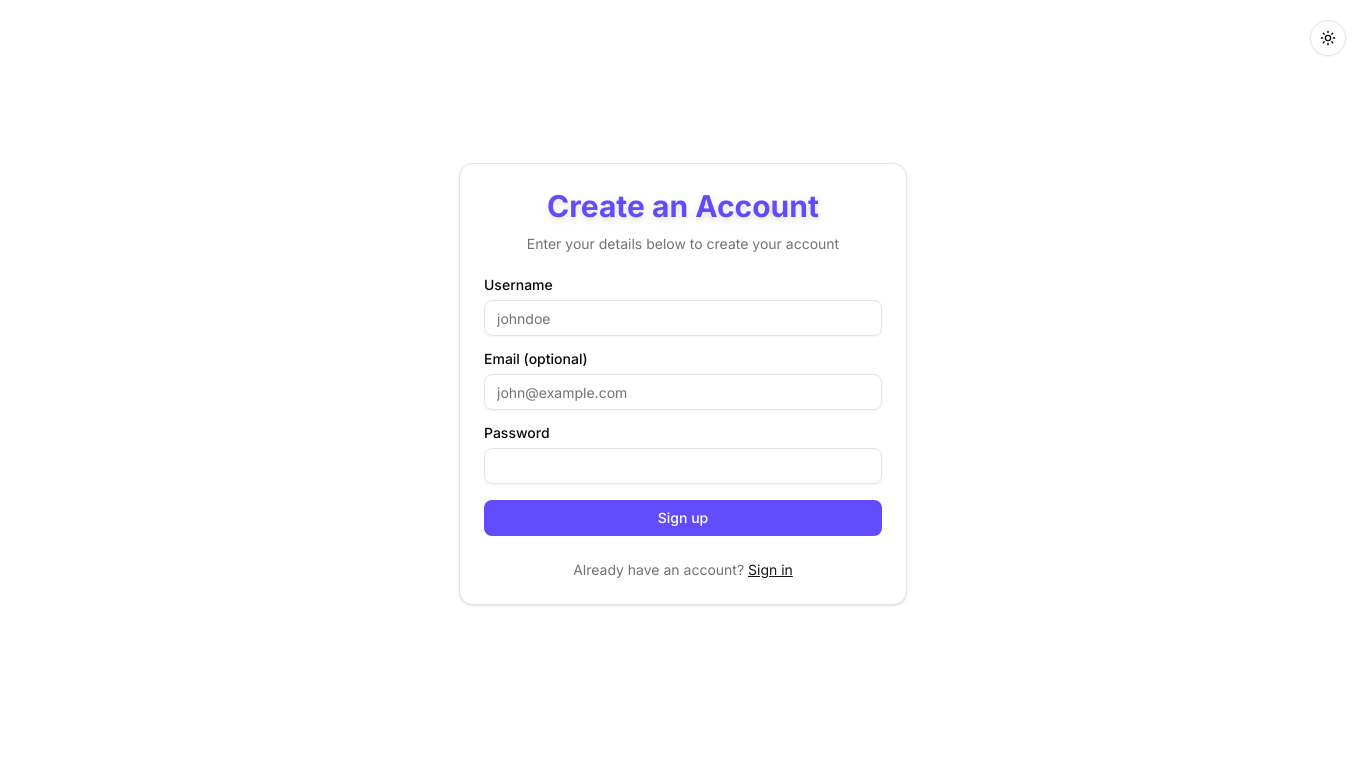
Test: SignUpPage › shows email exists error when API returns email already exists error
Type "testuser" into the field labelled "Username" at (683, 318), box [484,300,882,336]
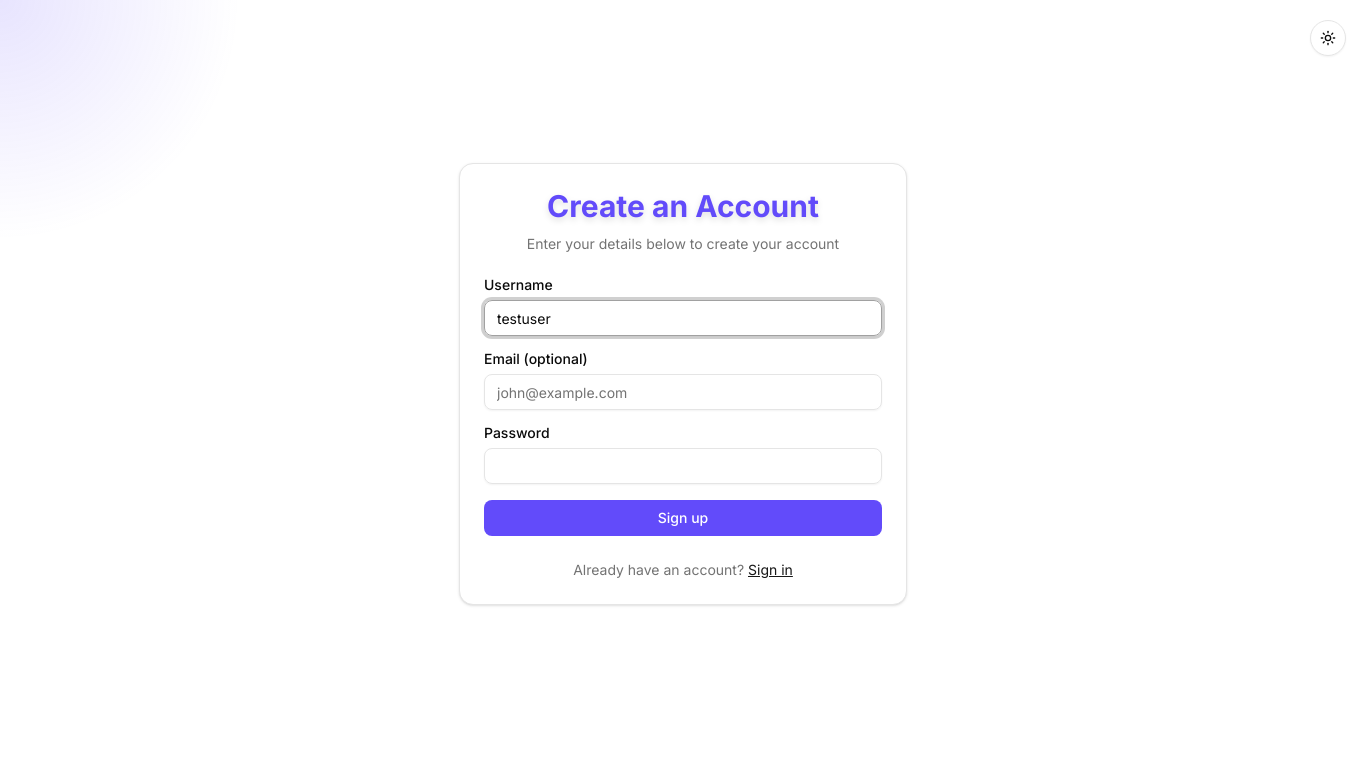
Type "test@example.com" into the field labelled "Email (optional)" at (683, 392), box [484,374,882,410]
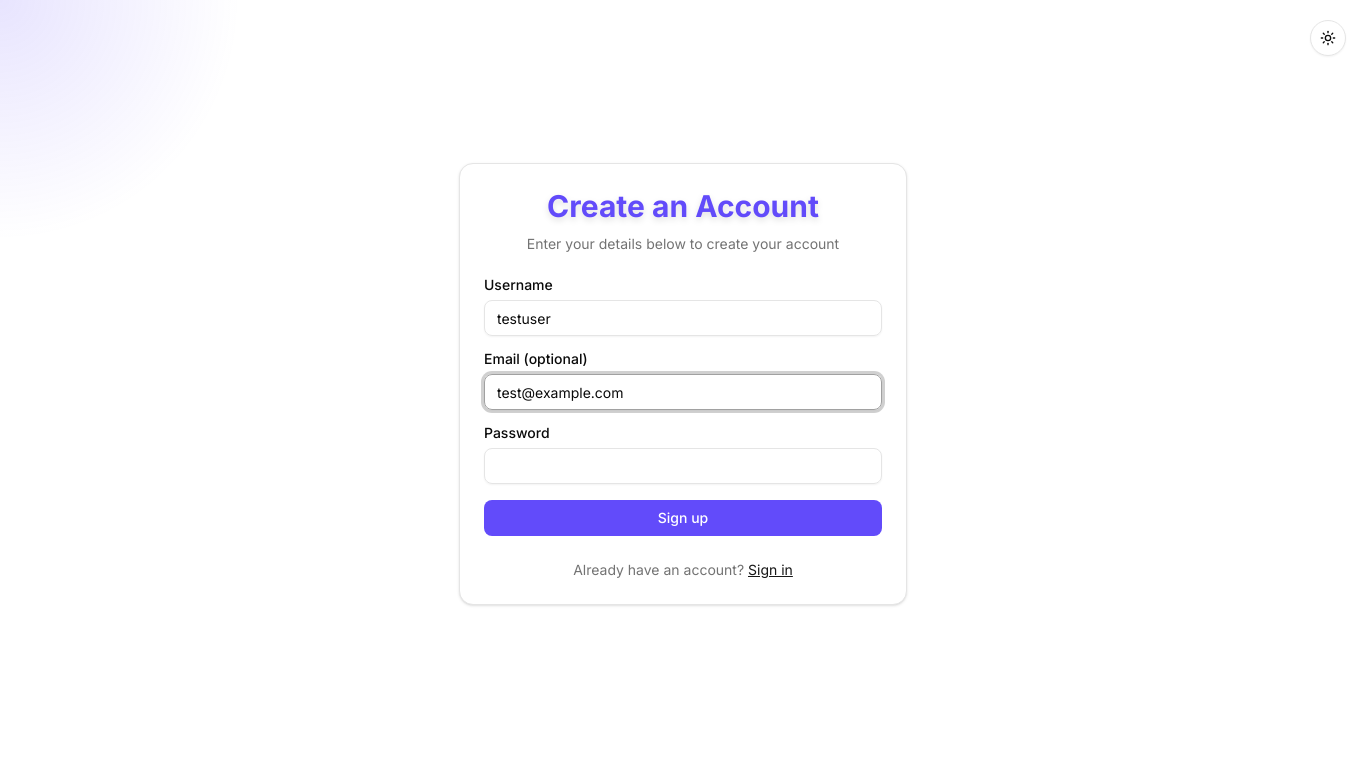
Type "password123" into the password field labelled "Password" at (683, 466), box [484,448,882,484]
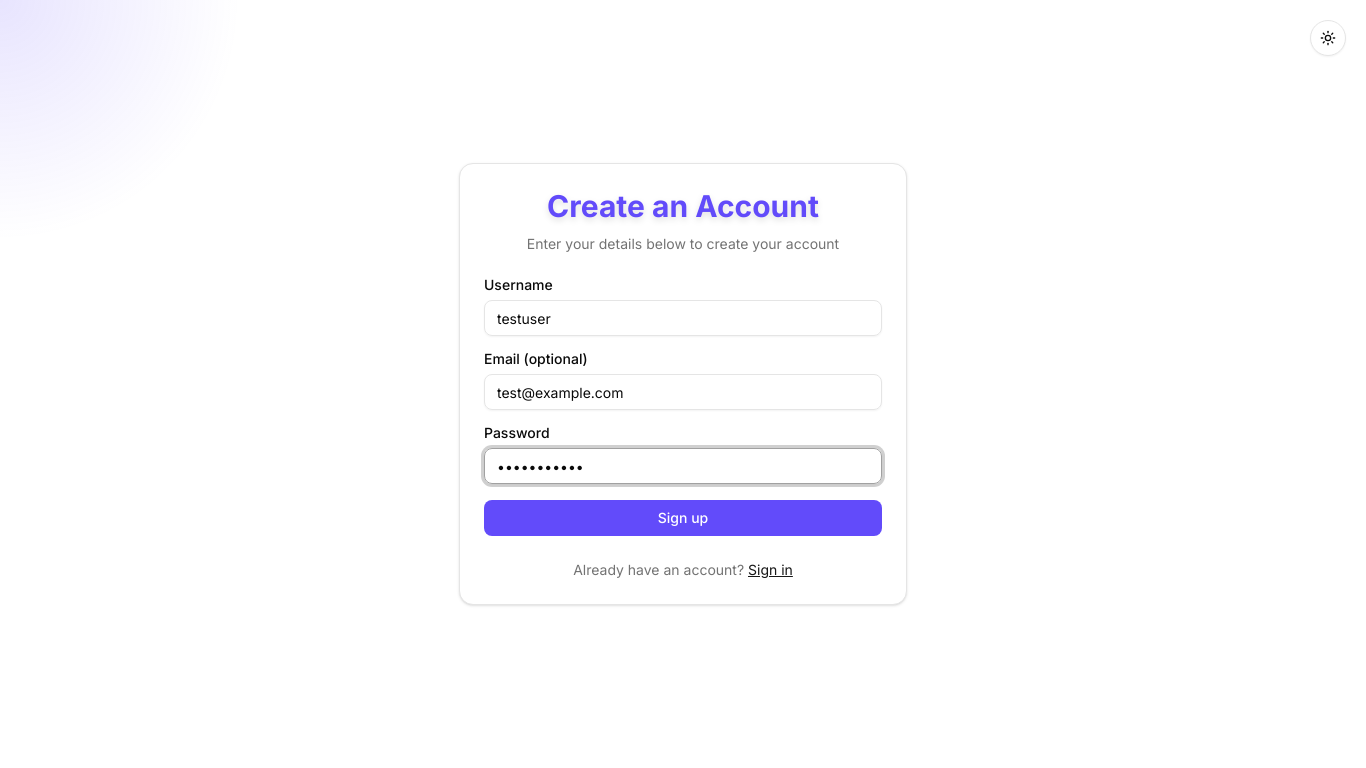
Click the button "Sign up" at (683, 518), box [484,500,882,536]
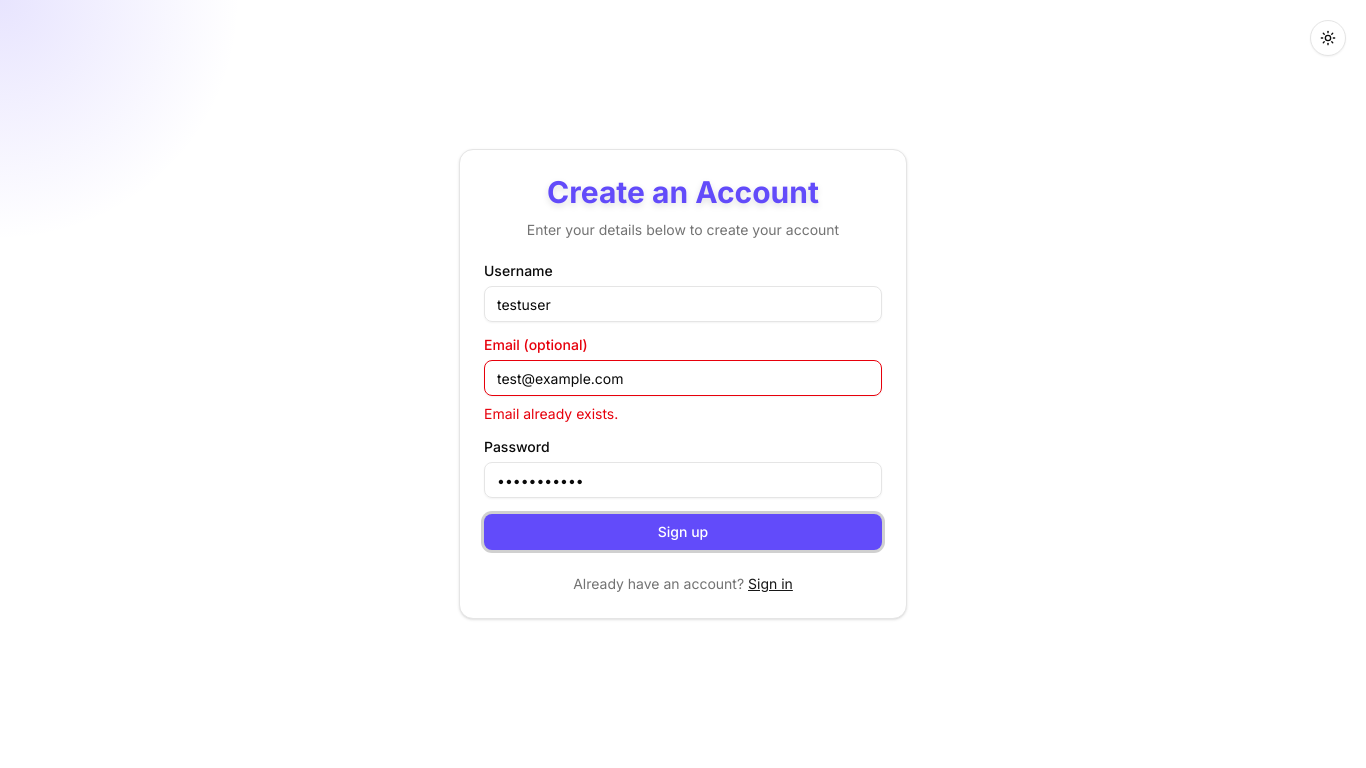
Expected: the text "Email already exists." is shown, [484,405,618,422]
